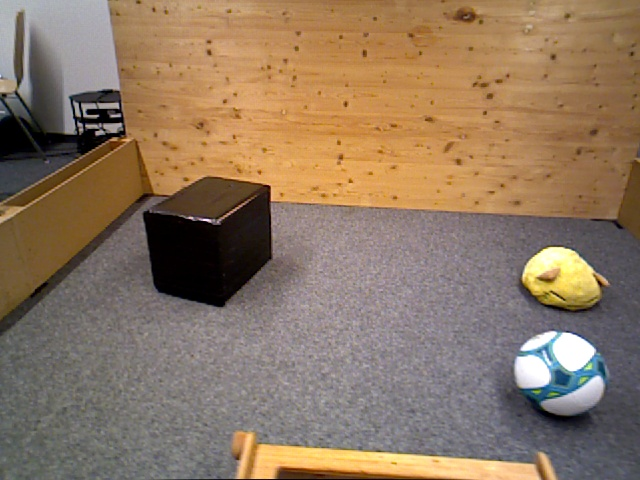grasp: (521, 246, 610, 311)
kick: (514, 330, 611, 419)
push: (145, 176, 274, 308)
